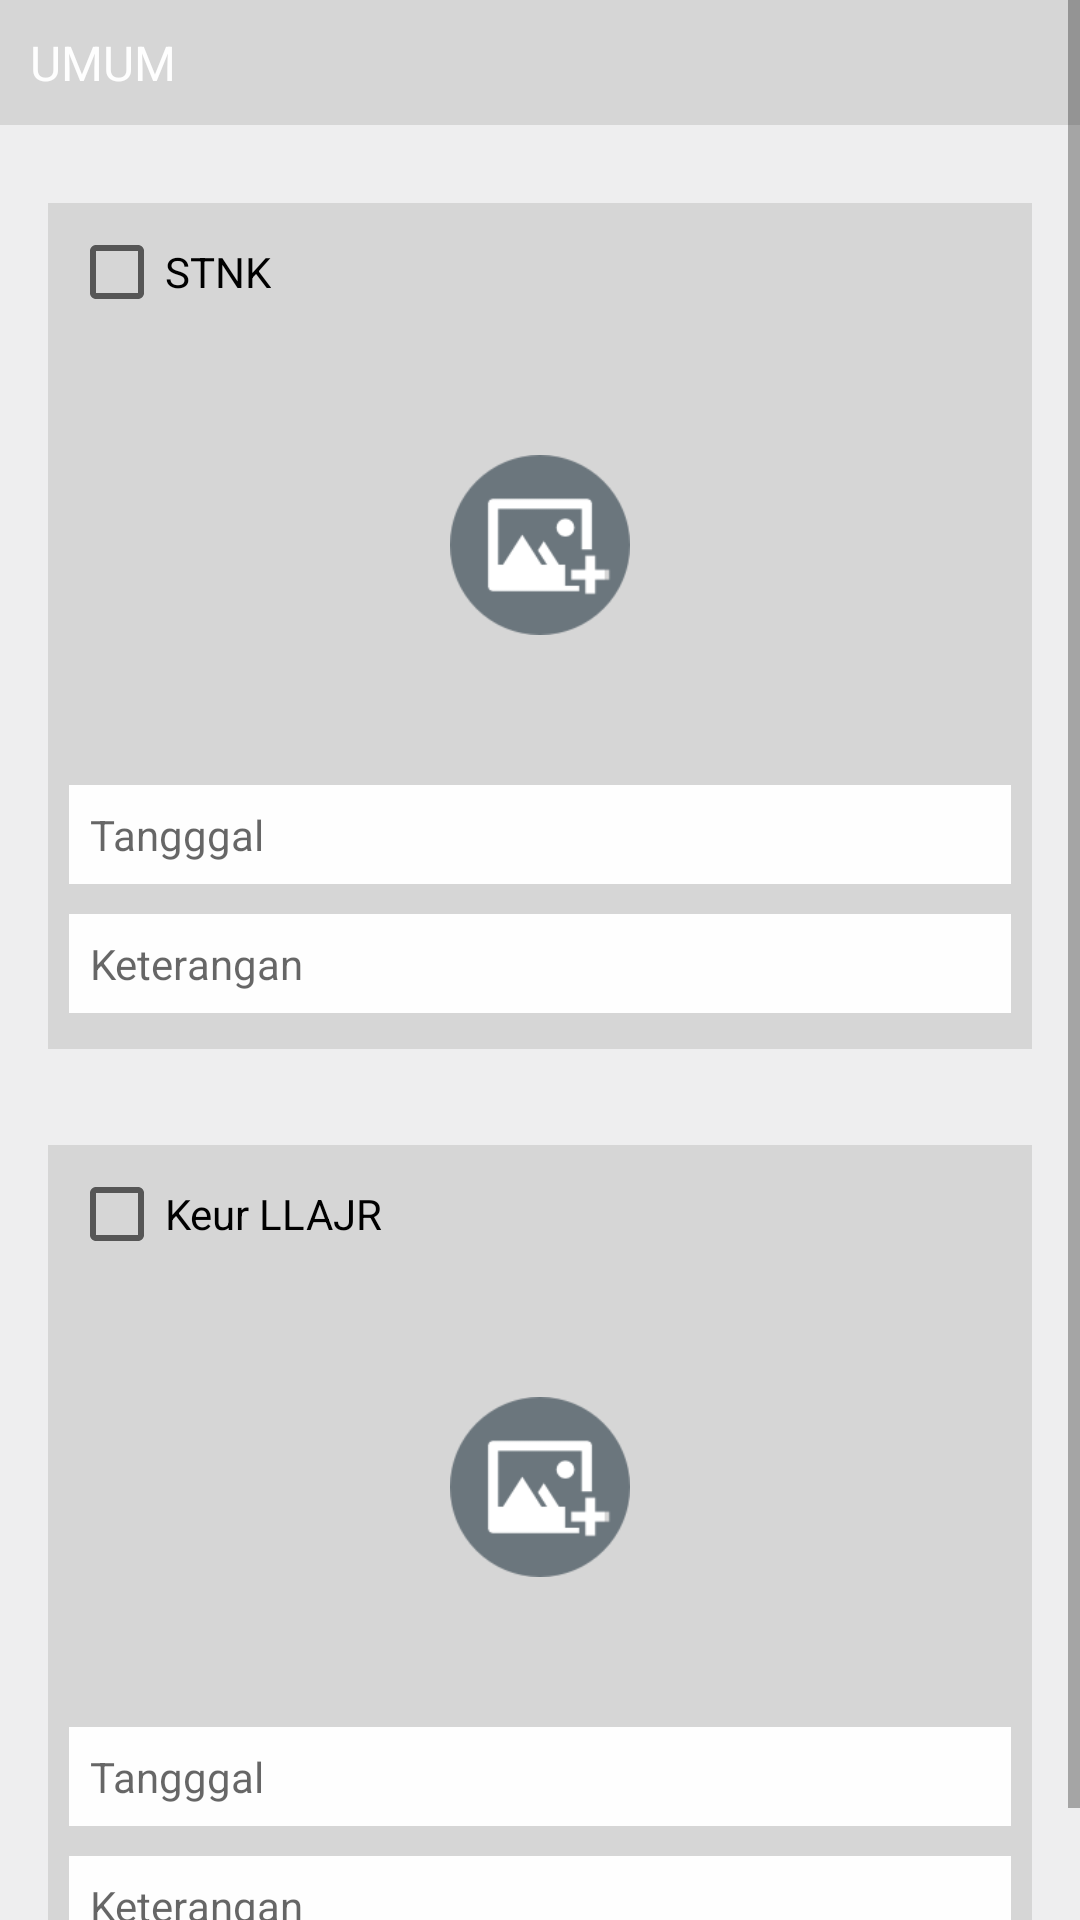

Named icons in this screenshot (1080px x 1920px) and their bounding boxes, (x1, y1, x2, y2):
add: (450, 455, 630, 635), (450, 1397, 630, 1577)
